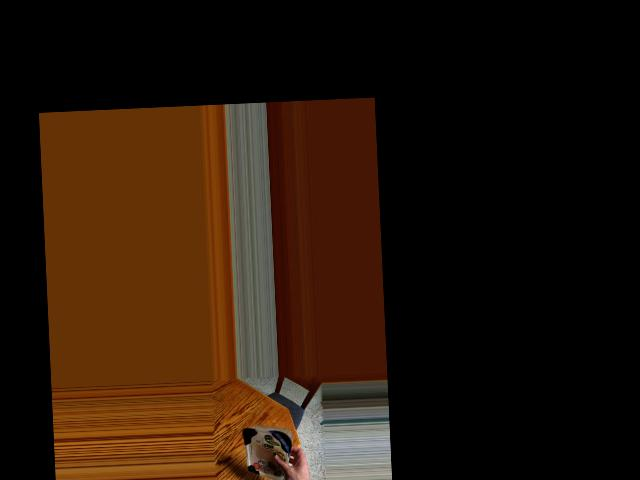cheese: (245, 420, 295, 474)
